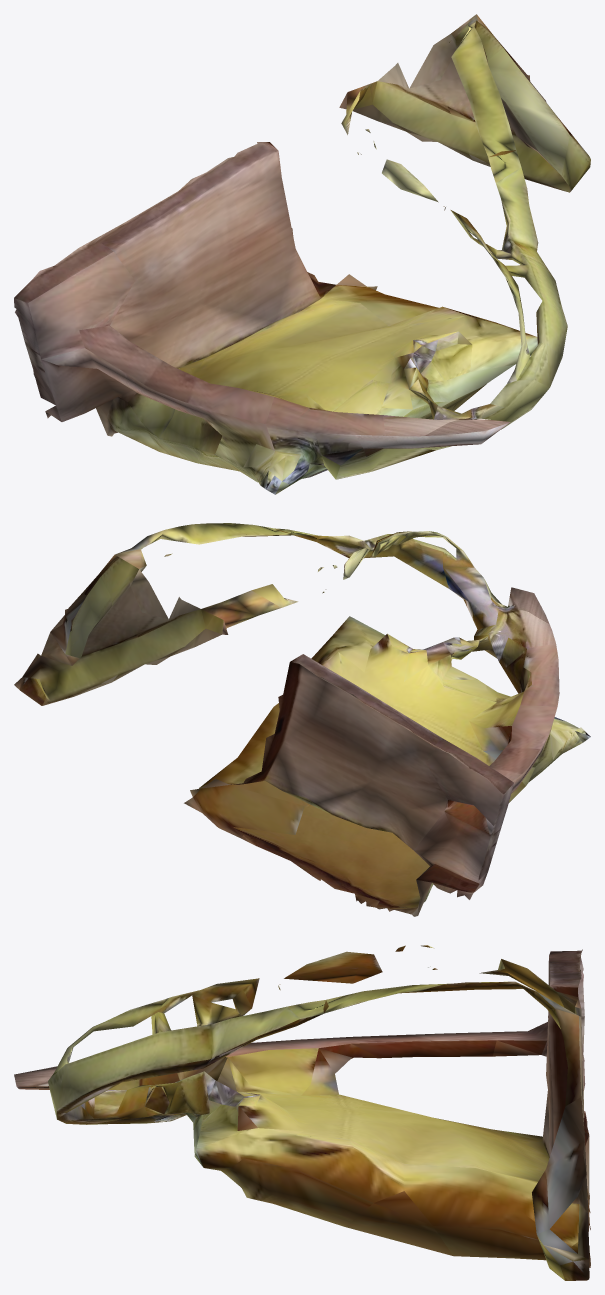
The picture shows the model from 3 angles, top to bottom: view 1: azimuth 30°, elevation 25°; view 2: azimuth 150°, elevation 25°; view 3: azimuth 270°, elevation 25°; orthographic projection. The views are drawn at different scales.
Size of the model in its own units: 1.63 by 0.9585 by 1.27.
